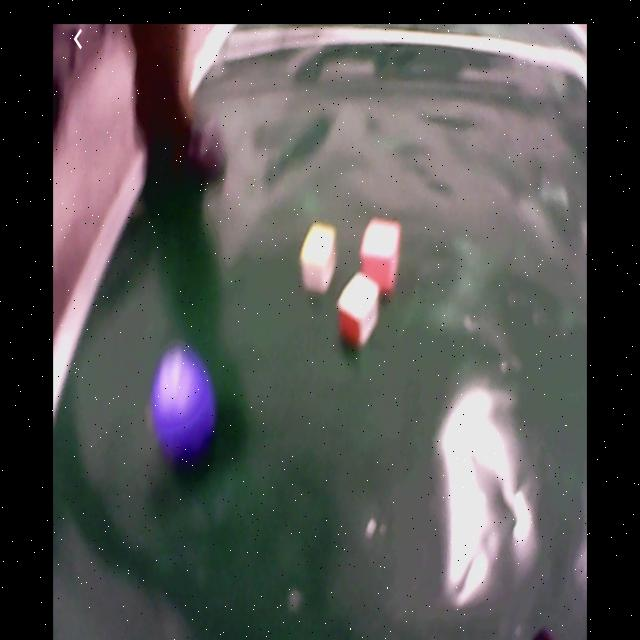ball: (149, 352, 217, 458)
